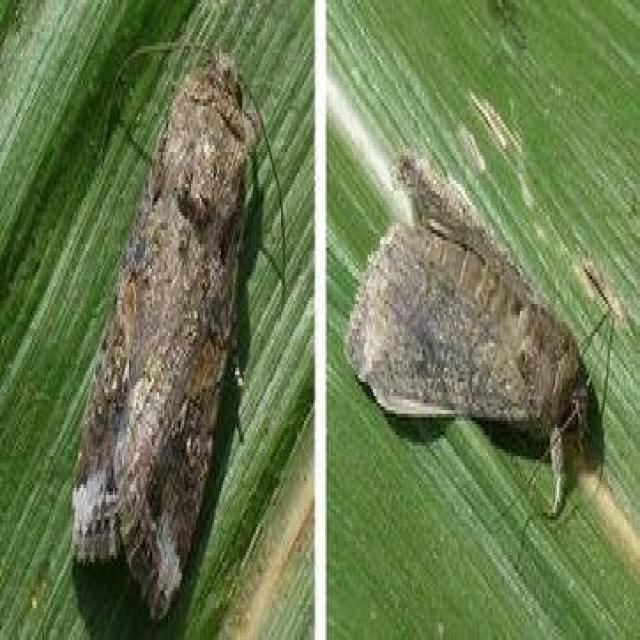army worm: (67, 24, 279, 607), (340, 143, 617, 510)
